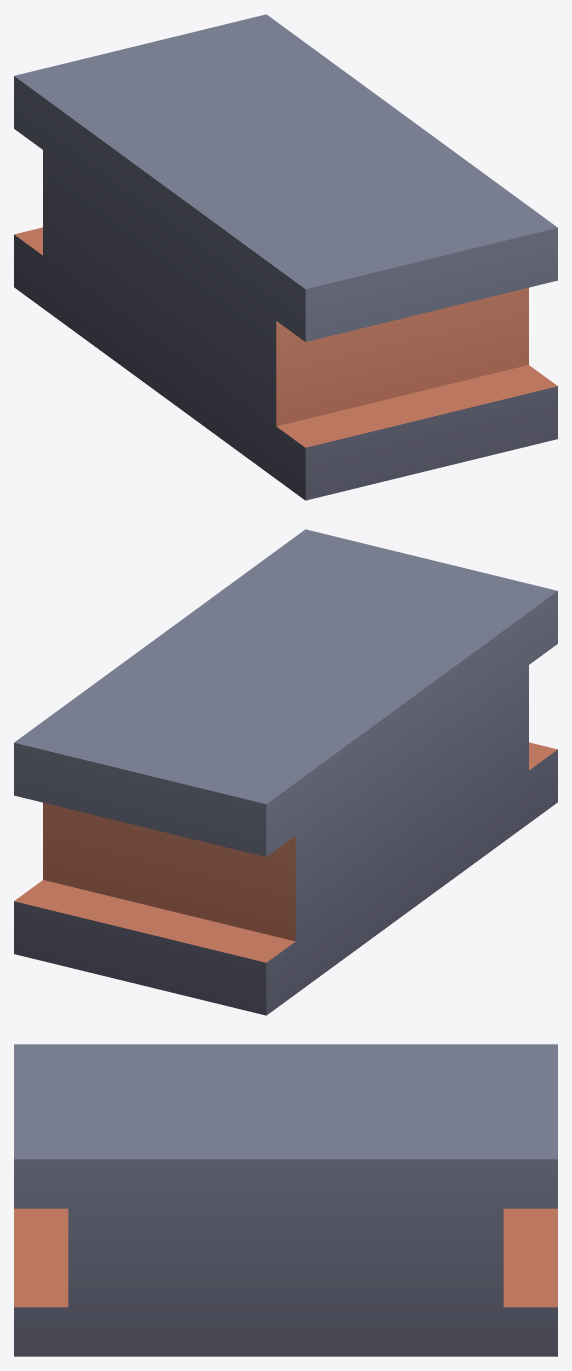
File: conveyor-long-part-middle.obj
3 views of the same model, one above another, from view 1: azimuth 30°, elevation 25°; view 2: azimuth 150°, elevation 25°; view 3: azimuth 270°, elevation 25° (orthographic). The views are drawn at different scales.
Parts seen in each view (by area): view 1: conveyor-long-part-middle; view 2: conveyor-long-part-middle; view 3: conveyor-long-part-middle.
Part boxes in pixels (x1,y1,x2,y2): conveyor-long-part-middle: [14, 14, 557, 500]; conveyor-long-part-middle: [14, 529, 557, 1015]; conveyor-long-part-middle: [14, 1044, 557, 1356].
Size of the model in its own units: 0.5 by 0.4 by 1.
